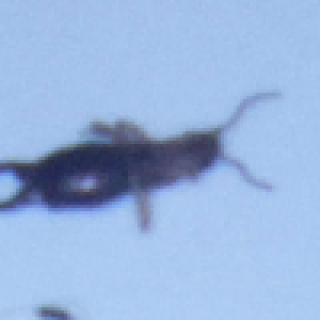earwig: (0, 88, 292, 231)
